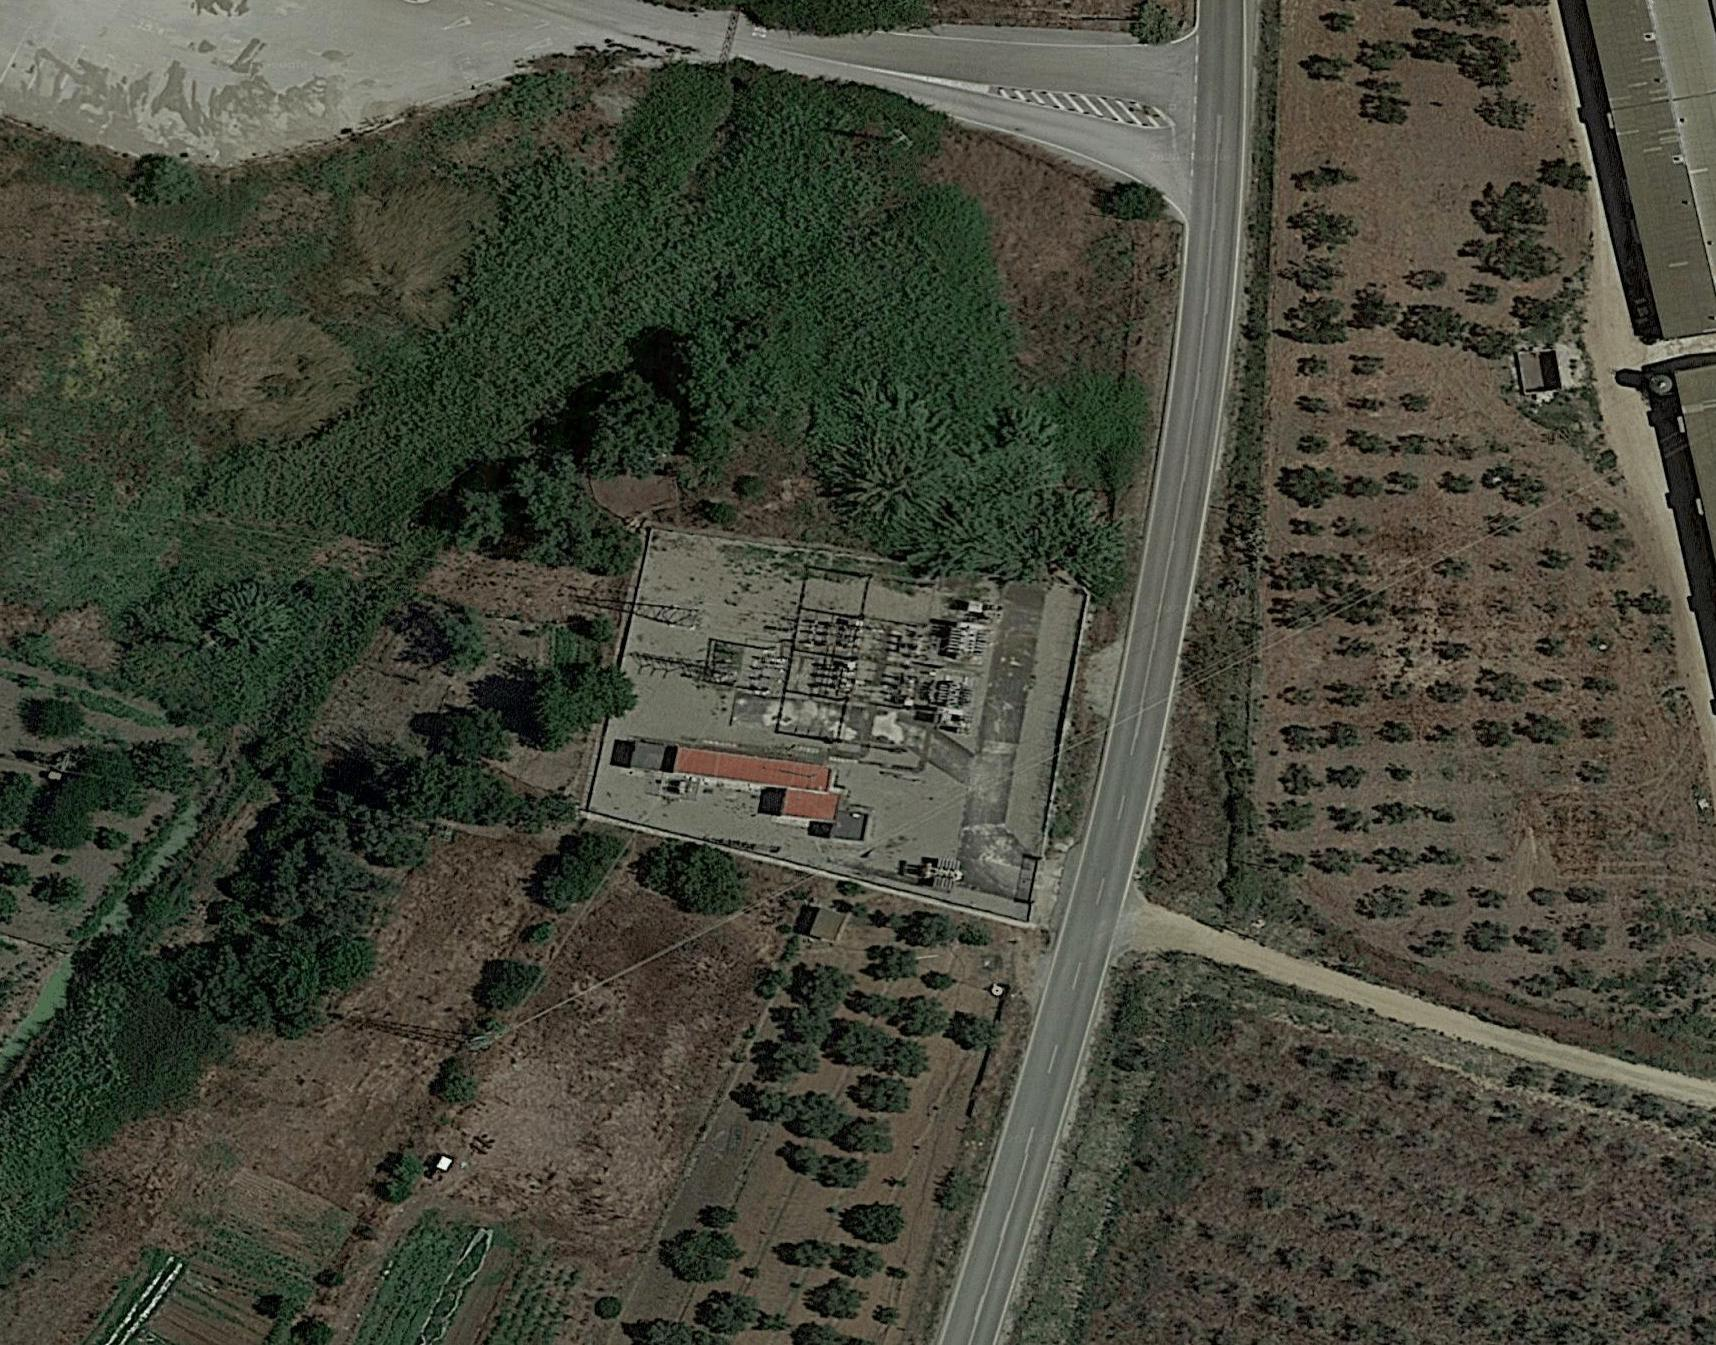substation: (627, 558, 999, 771)
